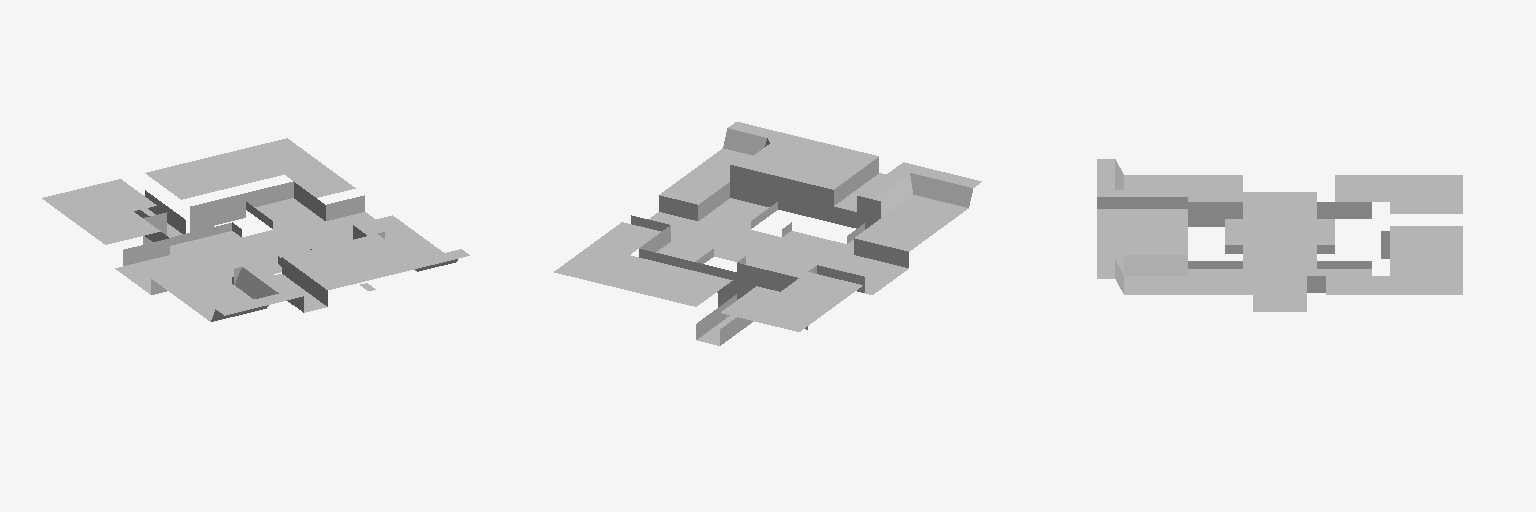
The model's file is lvl_shipBigRoom1-Take2.obj.
3 views of the same model, side by side, from view 1: azimuth 30°, elevation 25°; view 2: azimuth 150°, elevation 25°; view 3: azimuth 270°, elevation 25° (orthographic).
Parts seen in each view (by area): view 1: Default; view 2: Default; view 3: Default.
Boxes of the visible parts, x1,y1,x2,y2 form: Default: [42, 138, 469, 321]; Default: [554, 122, 981, 345]; Default: [1097, 159, 1462, 311].
Bounding box in the file's own units: 31 × 9 × 40.